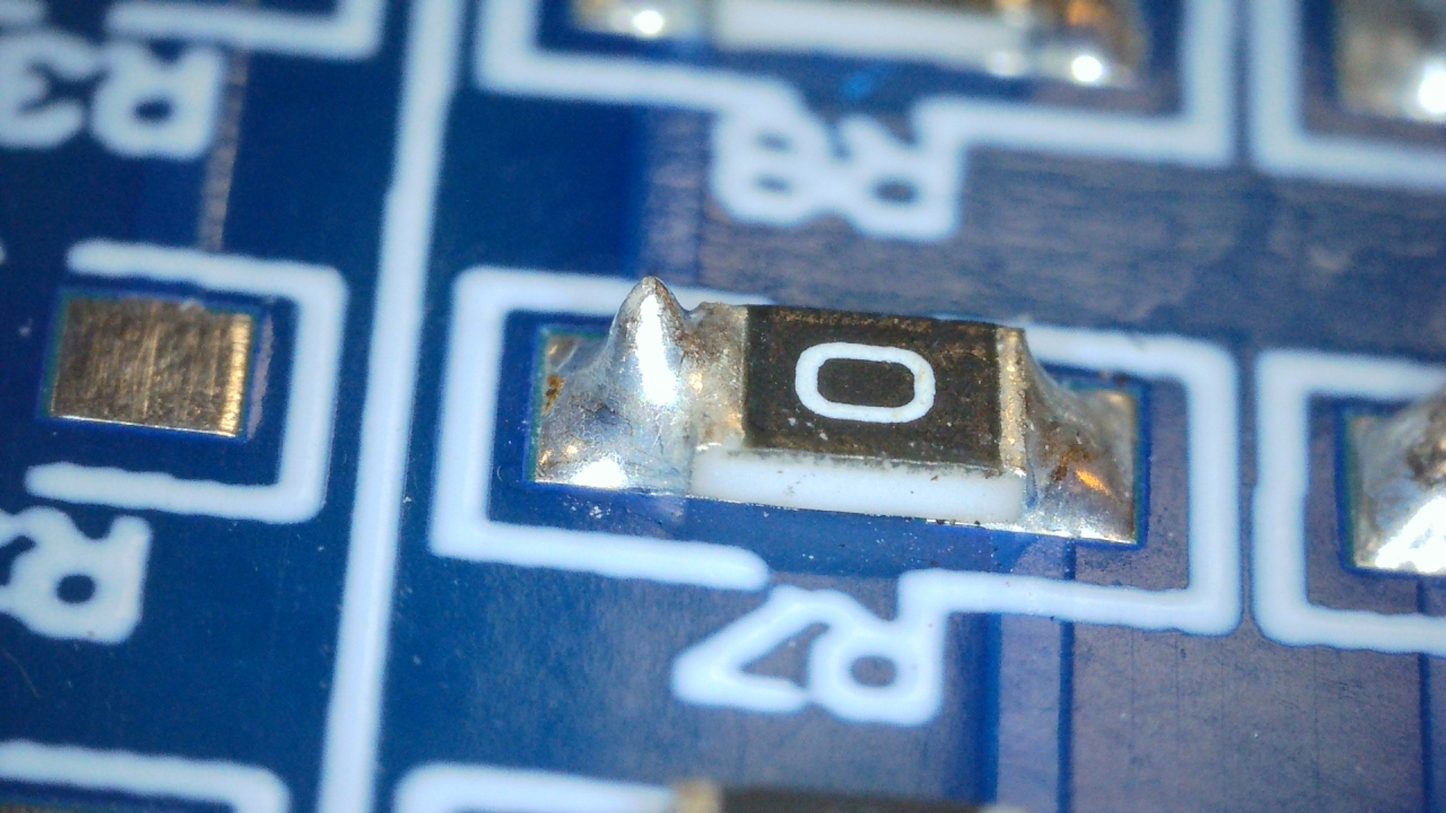NG: (546, 277, 736, 481)
OK: (999, 327, 1126, 522)
